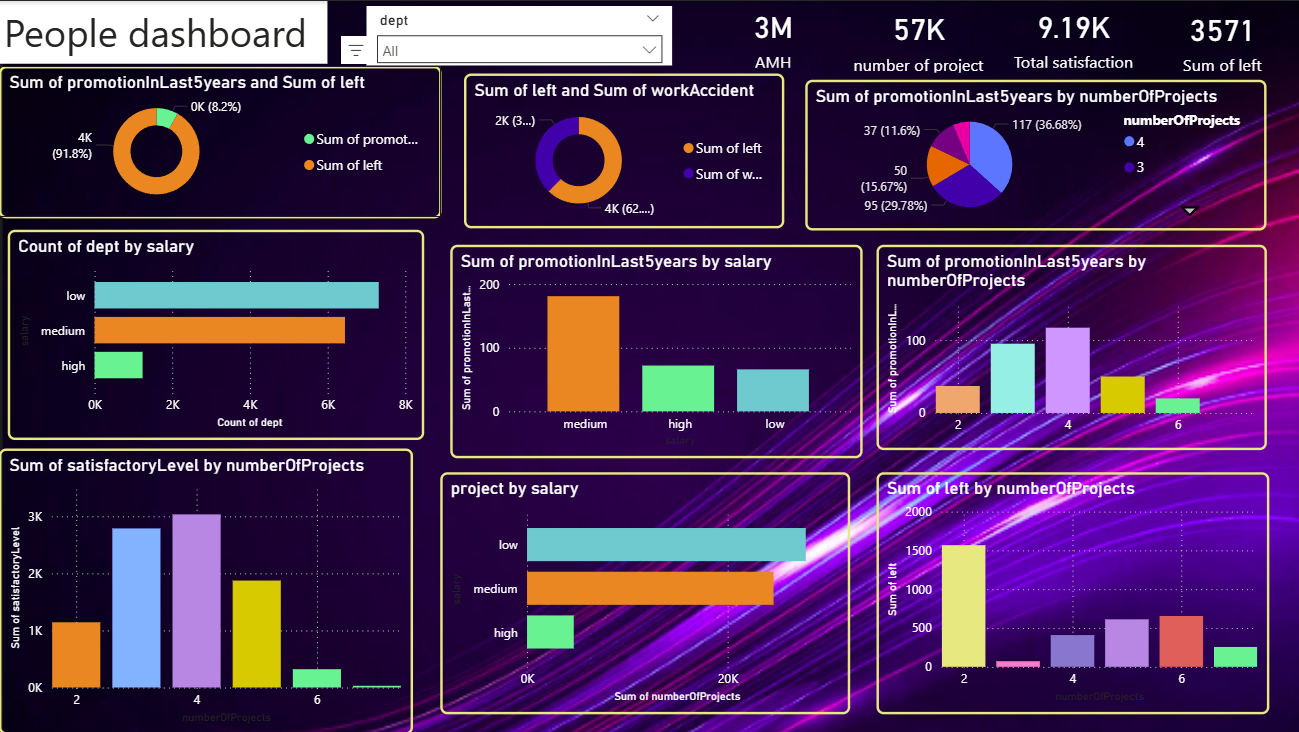

This screenshot's page, from the dashboard's own definition file:
{"tool":"powerbi","page":{"name":"Page 1","canvas":[1280,720],"ordinal":0},"visuals":[{"type":"clusteredBarChart","title":"project by salary","fields":{"Y":["Sum(people1.numberOfProjects)"],"Category":["people1.salary"]},"box":[433.6,462.4,402.1,237.4],"z":0},{"type":"clusteredColumnChart","fields":{"Category":["people1.numberOfProjects"],"Y":["Sum(people1.left)"]},"box":[861.8,462.4,385.6,237.4],"z":1000},{"type":"clusteredColumnChart","fields":{"Category":["people1.numberOfProjects"],"Y":["Sum(people1.satisfactoryLevel)"]},"box":[0,439.2,406.3,281],"z":2000},{"type":"clusteredColumnChart","fields":{"Category":["people1.salary"],"Y":["Sum(people1.promotionInLast5years)"]},"box":[443.2,238.8,404.8,209.9],"z":3000},{"type":"clusteredBarChart","fields":{"Y":["CountNonNull(people1.dept)"],"Category":["people1.salary"]},"box":[8.9,224.1,408.9,206.3],"z":4000},{"type":"textbox","box":[0,0,322.5,61.7],"z":5000},{"type":"clusteredColumnChart","fields":{"Y":["Sum(people1.promotionInLast5years)"],"Category":["people1.numberOfProjects"]},"box":[861.8,238.8,382.8,201.7],"z":6000},{"type":"pieChart","fields":{"Category":["people1.numberOfProjects"],"Y":["Sum(people1.promotionInLast5years)"]},"box":[791.8,76.8,452.8,148.2],"z":7000},{"type":"donutChart","fields":{"Y":["Sum(people1.promotionInLast5years)","Sum(people1.left)"]},"box":[0,63.3,434.2,149.4],"z":8000},{"type":"slicer","fields":{"Values":["people1.dept"]},"box":[360.8,5.1,300,58.2],"z":9000},{"type":"donutChart","fields":{"Y":["Sum(people1.left)","Sum(people1.workAccident)"]},"box":[456.9,71.4,314.2,152.3],"z":10000},{"type":"card","fields":{"Values":["people1.AMH"]},"box":[697.5,0,126.6,70.9],"z":11000},{"type":"card","fields":{"Values":["Sum(people1.numberOfProjects)"]},"box":[812.4,0,181.1,75.5],"z":12000},{"type":"card","fields":{"Values":["Sum(people1.satisfactoryLevel)"]},"box":[960.8,0,188.6,70.9],"z":13000},{"type":"card","fields":{"Values":["Sum(people1.left)"]},"box":[1121.1,0,159.2,76.8],"z":14000}]}

Visuals, with their boxes in screenshot pixels (x1, y1, x2, y2), scaled from the page's 1280x720 canvas onto the 1299x732 screenshot:
"project by salary" clusteredBarChart: 440 470 848 711
clusteredColumnChart - people1.numberOfProjects x Sum(people1.left): 875 470 1266 711
clusteredColumnChart - people1.numberOfProjects x Sum(people1.satisfactoryLevel): 0 447 412 731
clusteredColumnChart - people1.salary x Sum(people1.promotionInLast5years): 450 243 861 456
clusteredBarChart - CountNonNull(people1.dept) x people1.salary: 9 228 424 438
textbox: 0 0 327 63
clusteredColumnChart - Sum(people1.promotionInLast5years) x people1.numberOfProjects: 875 243 1263 448
pieChart - people1.numberOfProjects x Sum(people1.promotionInLast5years): 804 78 1263 229
donutChart - Sum(people1.promotionInLast5years) x Sum(people1.left): 0 64 441 216
slicer - people1.dept: 366 5 671 64
donutChart - Sum(people1.left) x Sum(people1.workAccident): 464 73 783 227
card - people1.AMH: 708 0 836 72
card - Sum(people1.numberOfProjects): 824 0 1008 77
card - Sum(people1.satisfactoryLevel): 975 0 1166 72
card - Sum(people1.left): 1138 0 1298 78
